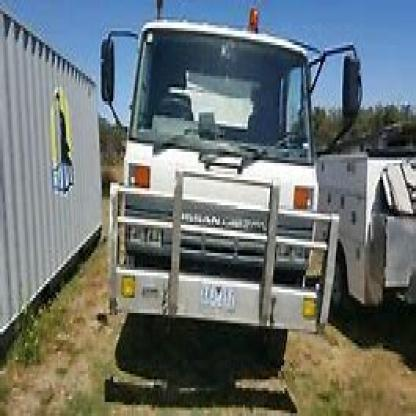dump_truck: (89, 3, 346, 382)
